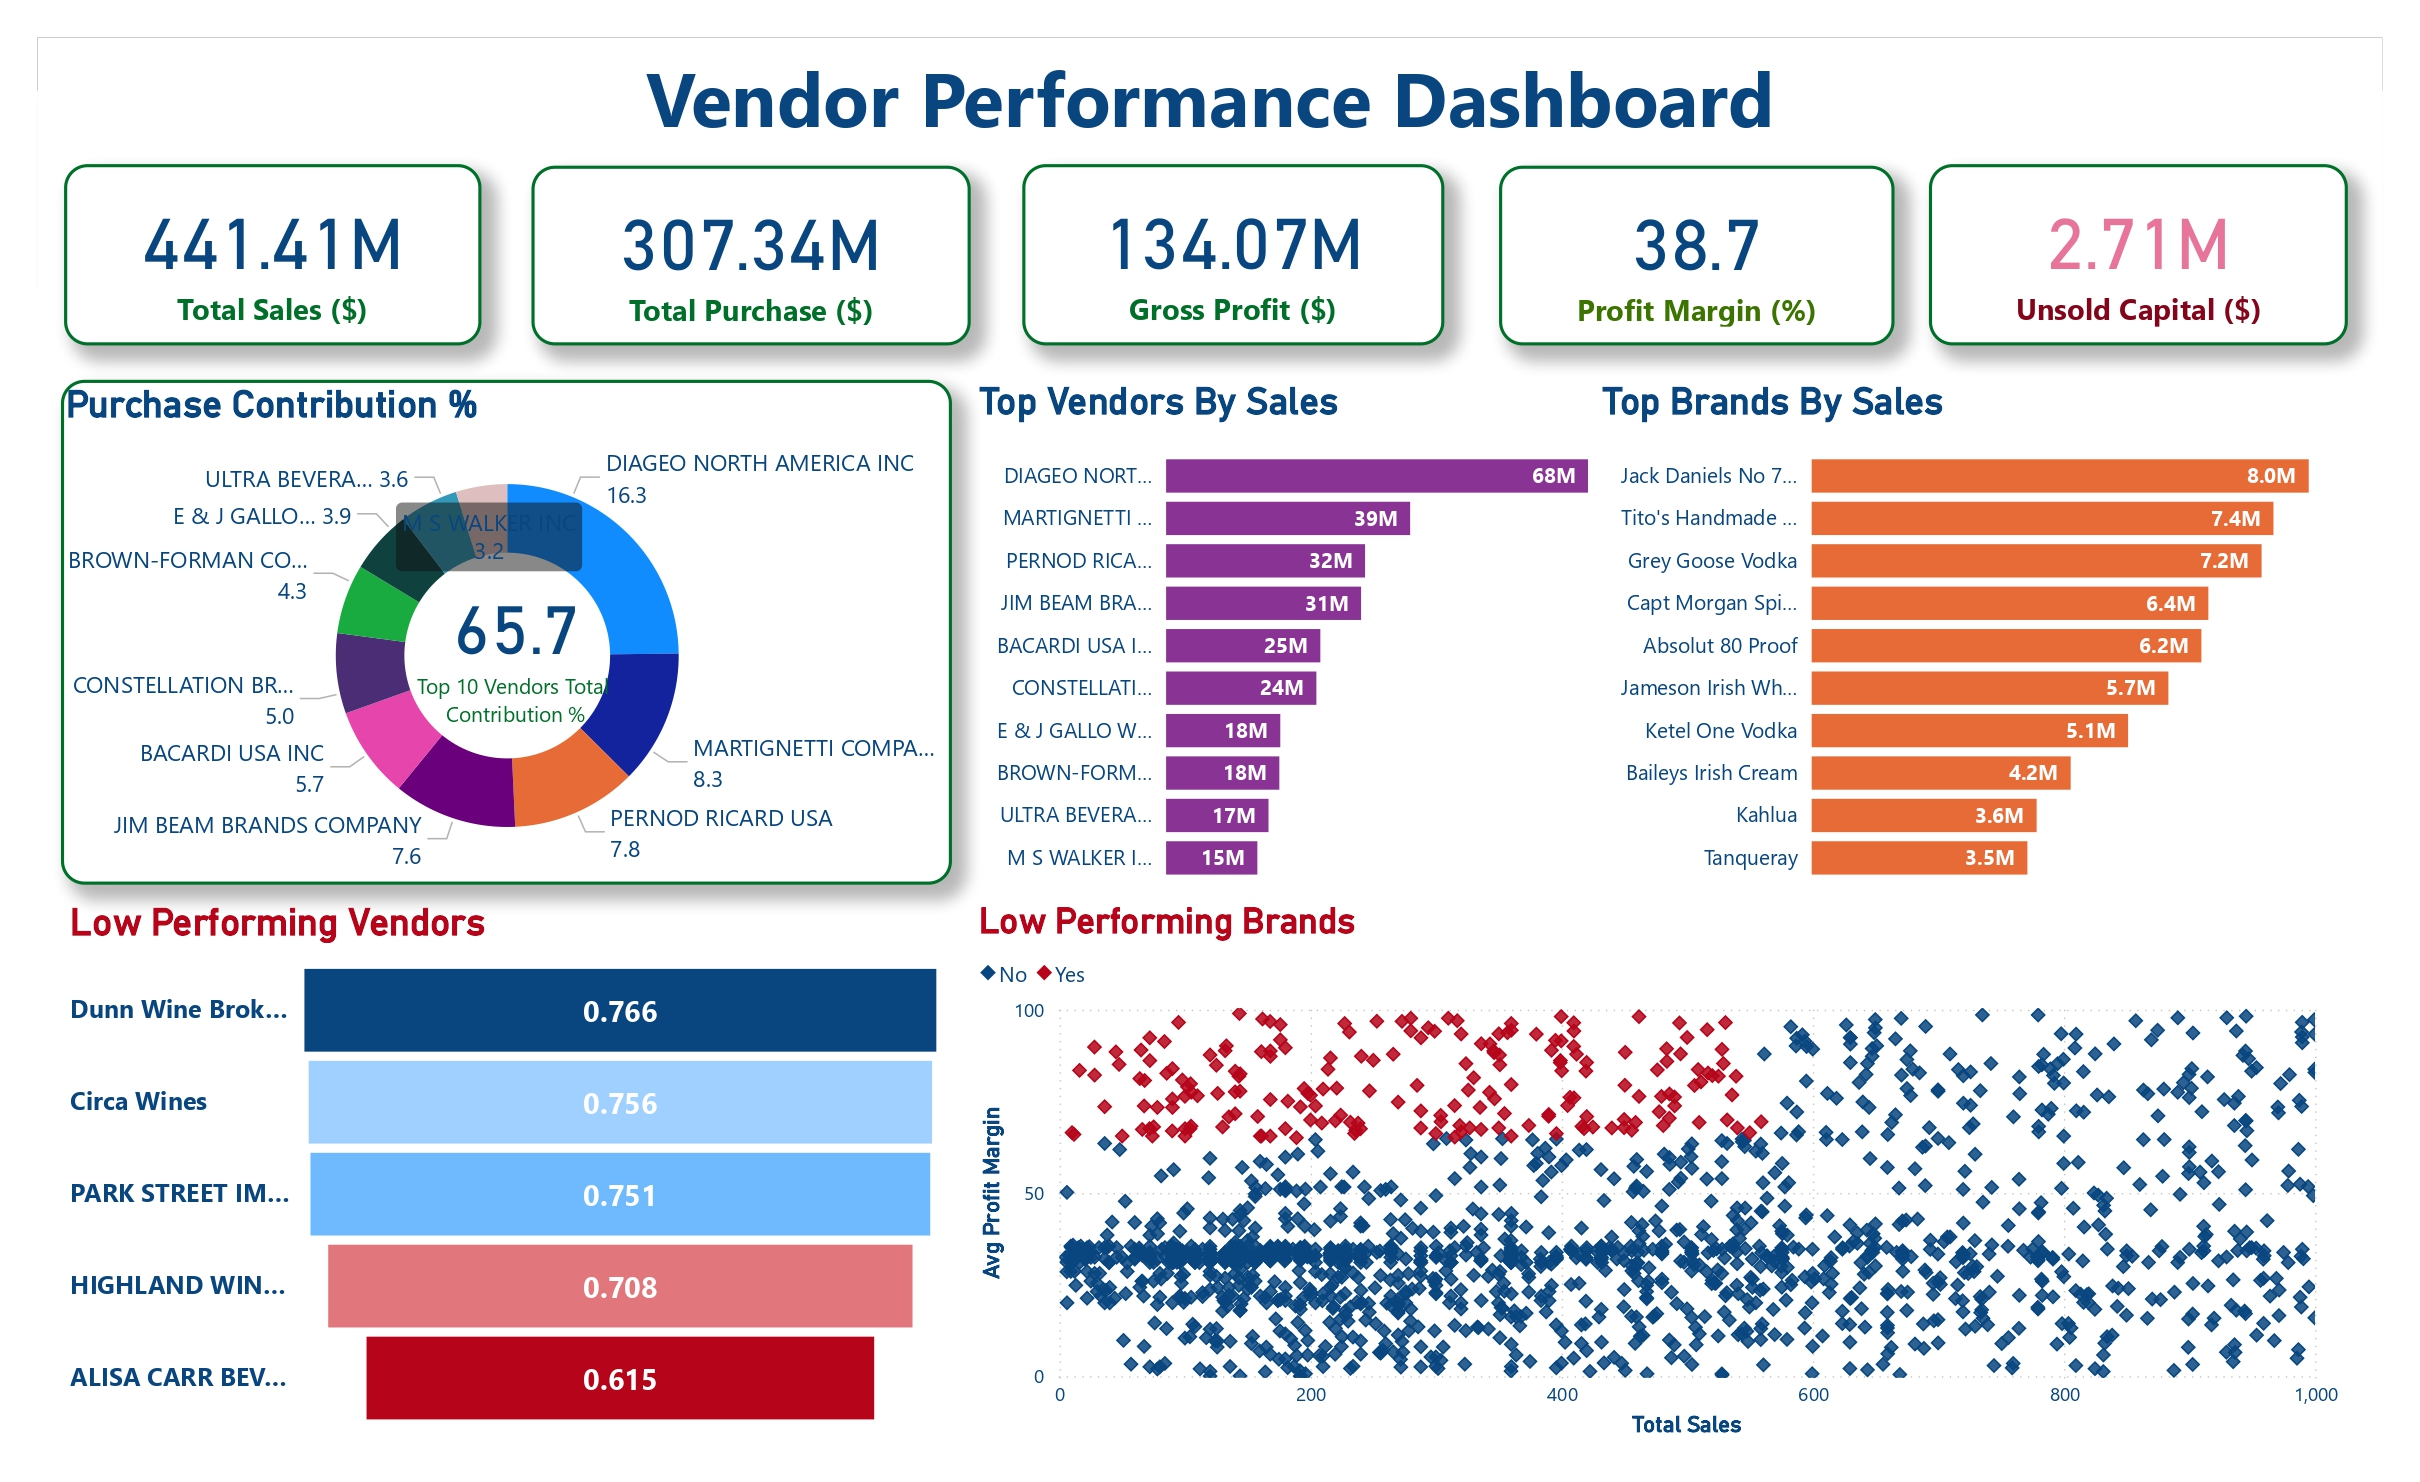

The page's visual inventory and layout, read from the dashboard file:
{"tool":"powerbi","page":{"name":"Page 1","canvas":[1500,900],"ordinal":0},"visuals":[{"type":"card","fields":{"Values":["Sum(vendor_sales_summary.TotalPurchaseDollars)"]},"box":[315.8,82.4,280.9,114.6],"z":0},{"type":"card","fields":{"Values":["Sum(vendor_sales_summary.TotalSalesDollars)"]},"box":[16.8,81,266.9,116],"z":1000},{"type":"card","fields":{"Values":["Sum(vendor_sales_summary.GrossProfit)"]},"box":[630.2,81,269.7,116],"z":2000},{"type":"card","fields":{"Values":["Avg(vendor_sales_summary.ProfitMargin)"]},"box":[934.8,82.4,252.9,114.6],"z":3000},{"type":"card","fields":{"Values":["Sum(vendor_sales_summary.UnsoldCapital)"]},"box":[1210.1,81,268.3,116],"z":4000},{"type":"textbox","box":[0,0,1500,83],"z":5000},{"type":"donutChart","title":"Purchase Contribution % ","fields":{"Category":["PurchaseContribution.VendorName"],"Y":["Sum(PurchaseContribution.PurchaseContribution%)"]},"box":[14.5,219.4,571,322.6],"z":6000},{"type":"card","fields":{"Values":["Sum(PurchaseContribution.PurchaseContribution%)"]},"box":[211.8,266.7,188.2,233.3],"z":7000},{"type":"barChart","title":"Top Vendors By Sales","fields":{"Category":["vendor_sales_summary.VendorName"],"Y":["Sum(vendor_sales_summary.TotalSalesDollars)"]},"box":[597.3,219.2,447.9,332.9],"z":8000},{"type":"barChart","title":"Top Brands By Sales","fields":{"Category":["vendor_sales_summary.Description"],"Y":["Sum(vendor_sales_summary.TotalSalesDollars)"]},"box":[995.9,219.2,504.1,332.9],"z":9000},{"type":"funnel","title":"Low Performing Vendors","fields":{"Category":["LowTurnoverVendor.VendorName"],"Y":["Avg(LowTurnoverVendor.AvgStockTurnOver)"]},"box":[16.1,551.6,569.4,348.4],"z":10000},{"type":"scatterChart","title":"Low Performing Brands","fields":{"X":["Sum(BrandPerformance.TotalSales)"],"Y":["Sum(BrandPerformance.AvgProfitMargin)"],"Series":["BrandPerformance.TargetBrand"],"Category":["BrandPerformance.Description"]},"box":[596.8,551.6,880.6,348.4],"z":11000}]}

Visuals, with their boxes on the page's 1500x900 design canvas (x1, y1, x2, y2). These are canvas units, not pixel positions in the 2420x1482 screenshot, which may show the page scaled, cropped or inside an application window:
card - Sum(vendor_sales_summary.TotalPurchaseDollars): pyautogui.locateOnScreen(316, 82, 597, 197)
card - Sum(vendor_sales_summary.TotalSalesDollars): pyautogui.locateOnScreen(17, 81, 284, 197)
card - Sum(vendor_sales_summary.GrossProfit): pyautogui.locateOnScreen(630, 81, 900, 197)
card - Avg(vendor_sales_summary.ProfitMargin): pyautogui.locateOnScreen(935, 82, 1188, 197)
card - Sum(vendor_sales_summary.UnsoldCapital): pyautogui.locateOnScreen(1210, 81, 1478, 197)
textbox: pyautogui.locateOnScreen(0, 0, 1500, 83)
"Purchase Contribution % " donutChart: pyautogui.locateOnScreen(14, 219, 586, 542)
card - Sum(PurchaseContribution.PurchaseContribution%): pyautogui.locateOnScreen(212, 267, 400, 500)
"Top Vendors By Sales" barChart: pyautogui.locateOnScreen(597, 219, 1045, 552)
"Top Brands By Sales" barChart: pyautogui.locateOnScreen(996, 219, 1500, 552)
"Low Performing Vendors" funnel: pyautogui.locateOnScreen(16, 552, 586, 900)
"Low Performing Brands" scatterChart: pyautogui.locateOnScreen(597, 552, 1477, 900)
